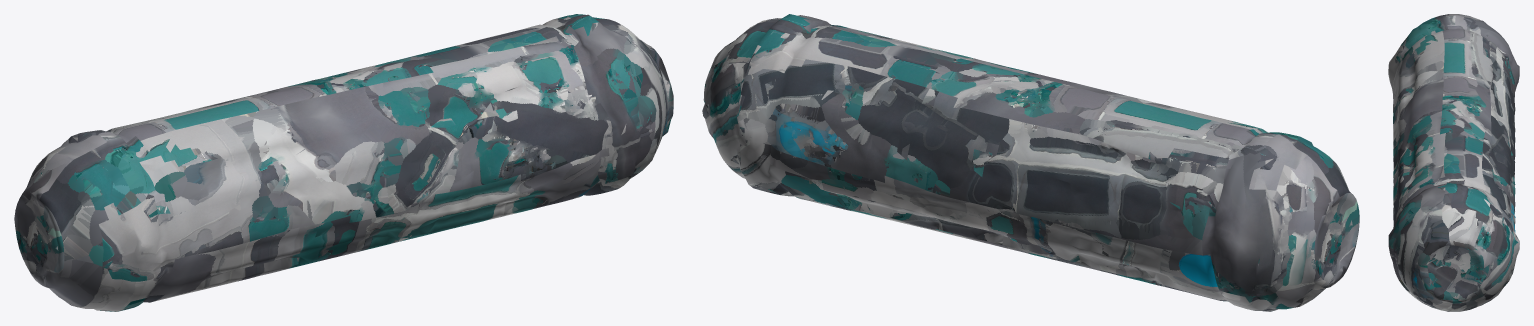
File: SM_Habitat_tex1.fbx
3 renders of one model, left to right at view 1: azimuth 30°, elevation 25°; view 2: azimuth 150°, elevation 25°; view 3: azimuth 270°, elevation 25°, orthographic. The views are drawn at different scales.
Parts seen in each view (by area): view 1: SMT_Habitat; view 2: SMT_Habitat; view 3: SMT_Habitat.
Boxes of the visible parts, x1,y1,x2,y2 form: SMT_Habitat: [14, 14, 673, 311]; SMT_Habitat: [702, 14, 1359, 311]; SMT_Habitat: [1388, 14, 1519, 311].
Size of the model in its own units: 1.92 by 0.5118 by 0.4941.
